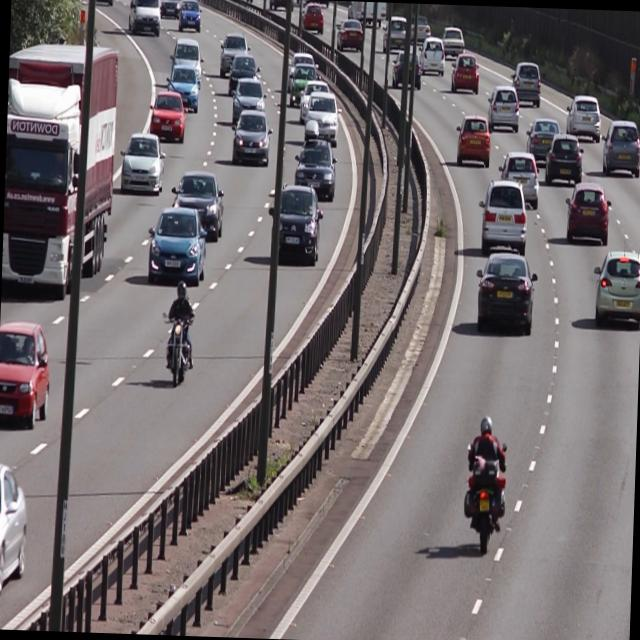Vehicle: (0, 43, 119, 301), (0, 319, 50, 431), (472, 252, 538, 334), (266, 182, 323, 268), (147, 206, 206, 284), (168, 168, 226, 242), (590, 246, 640, 329), (476, 180, 530, 253), (290, 121, 334, 200), (562, 180, 612, 248), (228, 104, 274, 168), (118, 133, 163, 197), (494, 156, 540, 206), (542, 133, 584, 187), (454, 114, 494, 170), (599, 124, 640, 178), (229, 72, 267, 130), (303, 89, 342, 145), (146, 91, 185, 145), (562, 90, 600, 142), (148, 89, 184, 143), (163, 66, 200, 118), (508, 60, 544, 109), (522, 114, 558, 162), (487, 84, 519, 134), (126, 0, 163, 39), (448, 55, 479, 95), (416, 34, 445, 76), (175, 0, 200, 34)
